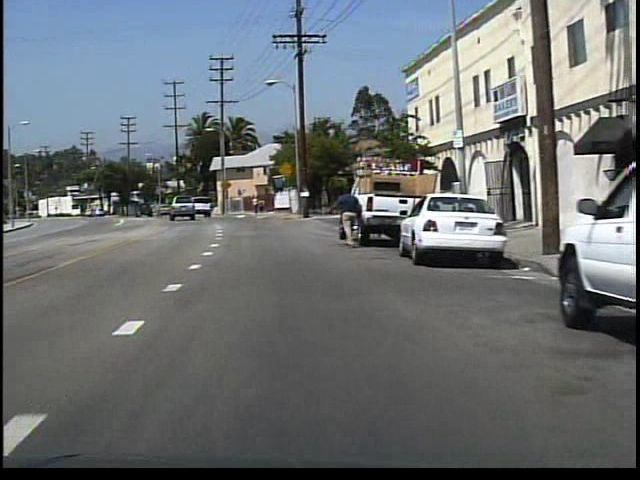person: (333, 184, 362, 250), (250, 195, 260, 217), (257, 197, 268, 216)
